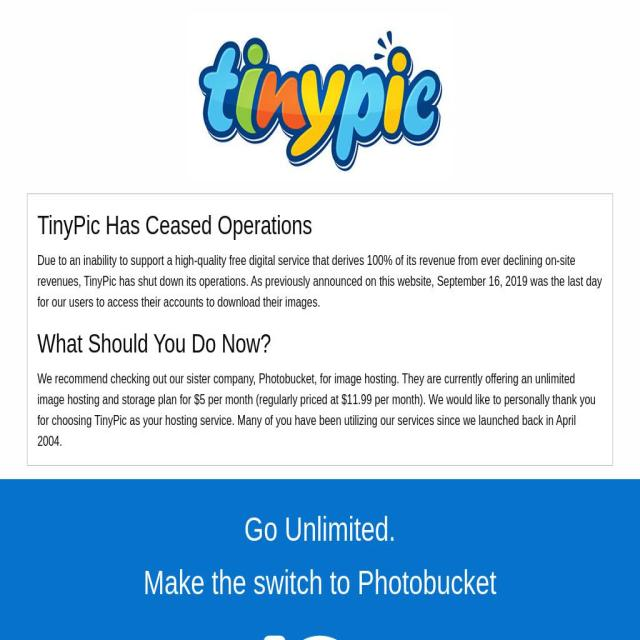heading: (53, 559, 587, 606), (53, 506, 587, 552), (37, 208, 603, 244), (37, 326, 603, 362)
image: (188, 13, 452, 180), (257, 612, 382, 640)
text: (37, 368, 603, 452), (37, 250, 603, 312)
